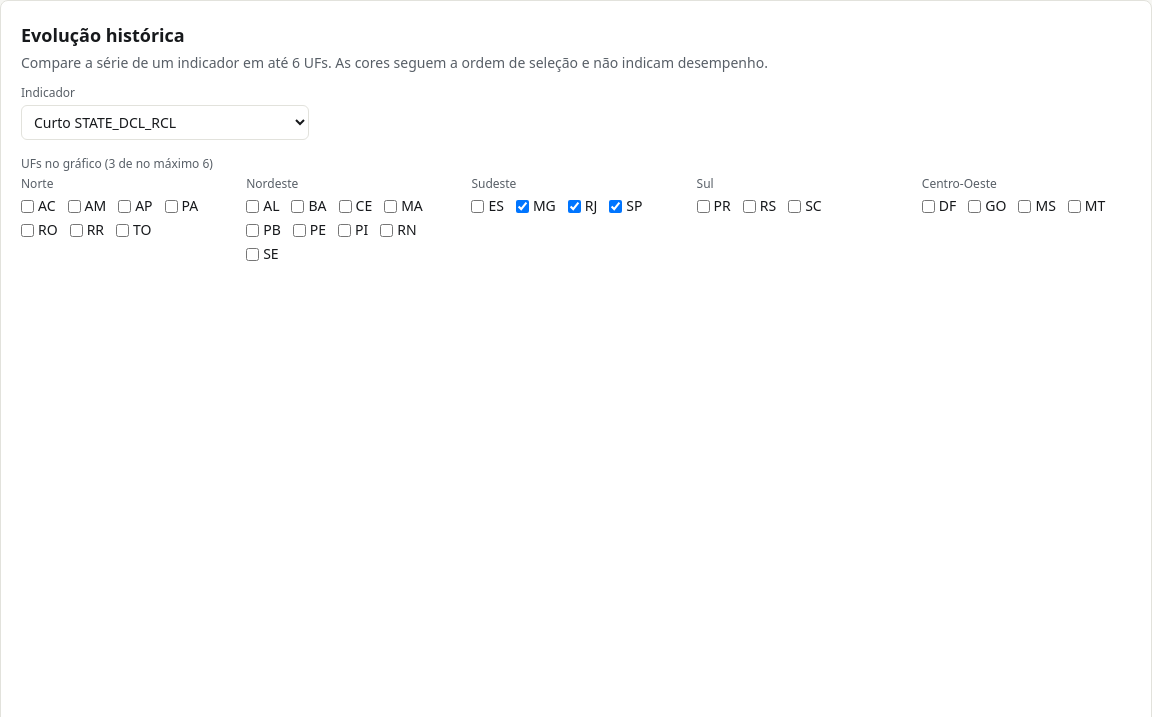
Test case: StateComparisonPanel › limits the selection to six UFs
Click the checkbox named "BA (Bahia)" at [298, 206], box [292,200,304,212]
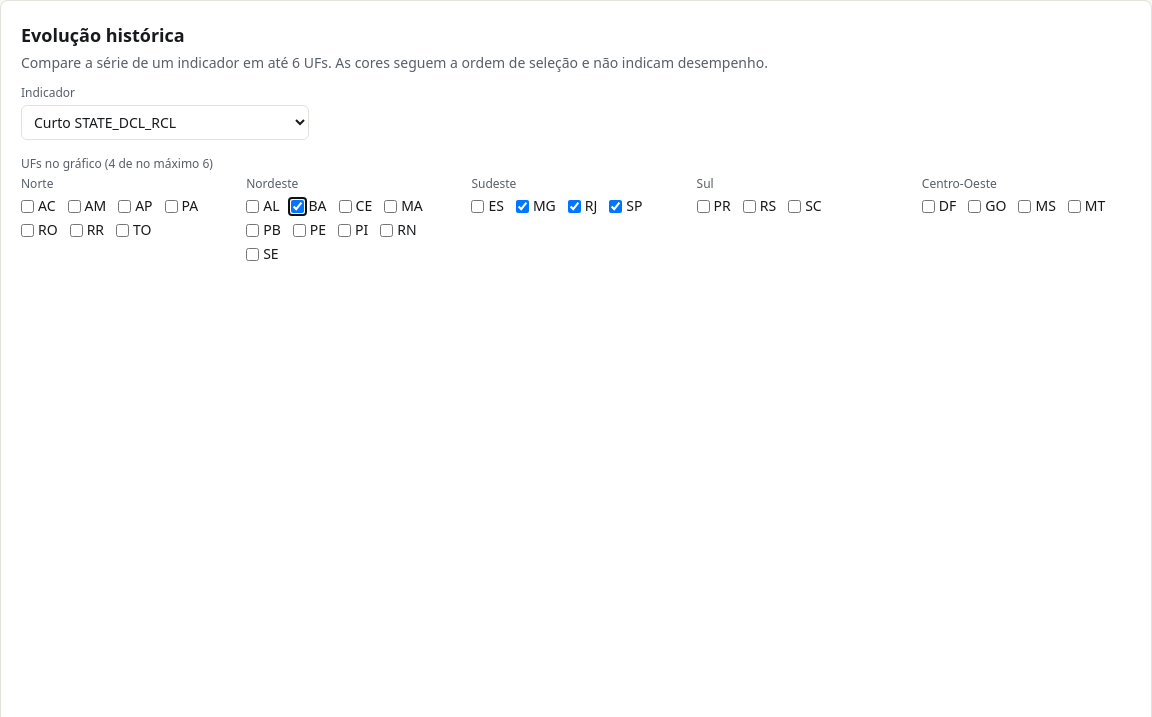
Click the checkbox named "PR (Paraná)" at [703, 206], box [697,200,710,212]
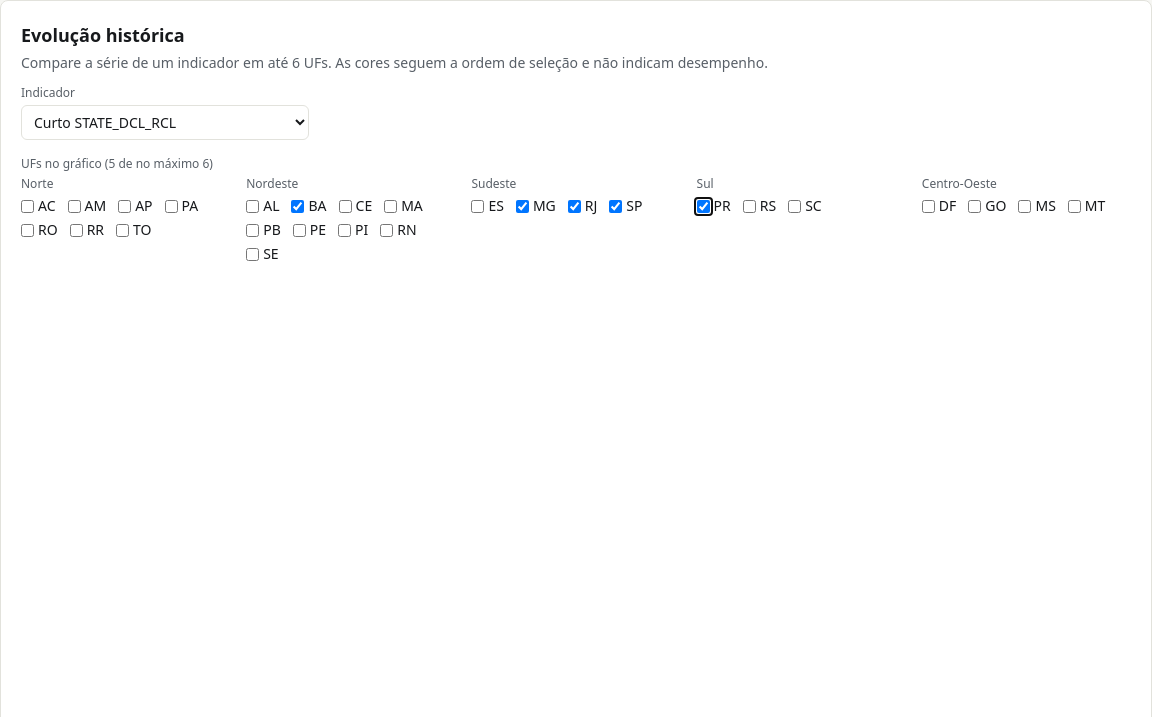
Click the checkbox named "CE (Ceará)" at [345, 206], box [338,200,352,212]
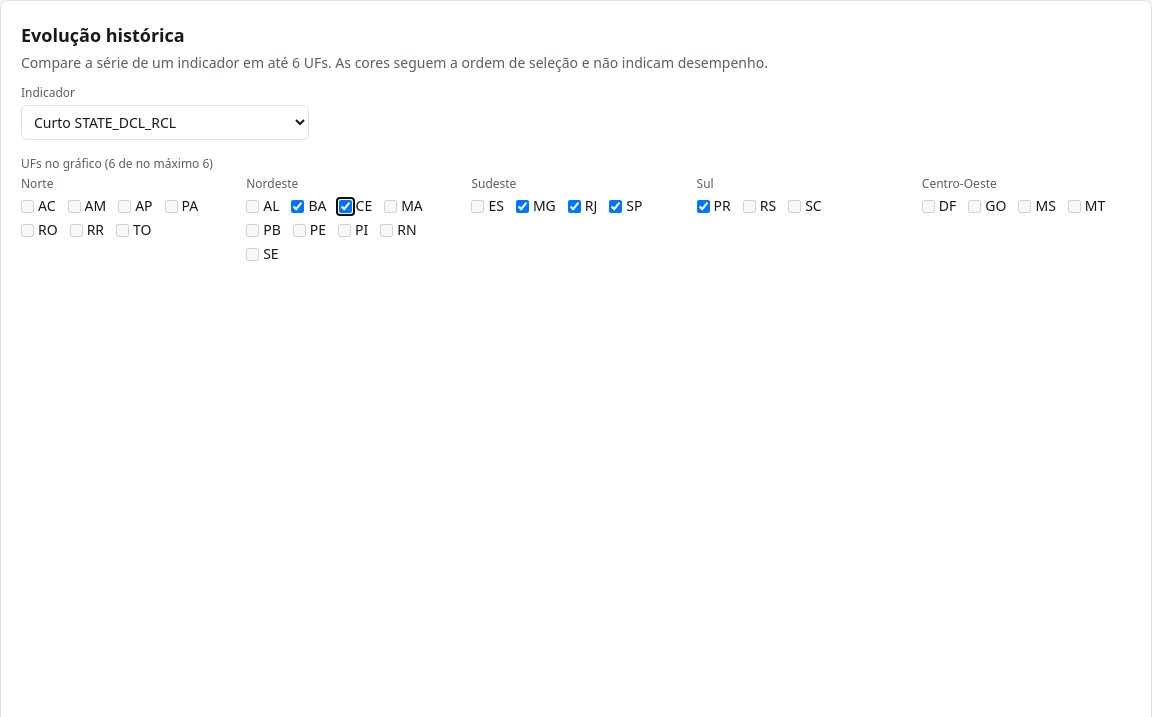
Expected: the checkbox named "BA (Bahia)" is enabled, [292,200,304,212]
Expected: the checkbox named "GO (Goiás)" is disabled, [968,200,981,212]
